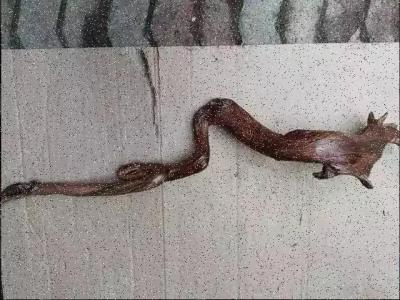Root: (1, 98, 399, 199)
